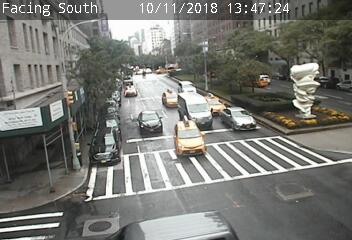car: (89, 128, 120, 166), (178, 93, 212, 127), (174, 121, 205, 157), (221, 106, 255, 131), (138, 111, 162, 135), (201, 96, 226, 117), (162, 91, 181, 107), (242, 78, 268, 88), (178, 81, 196, 95), (124, 85, 136, 97)
